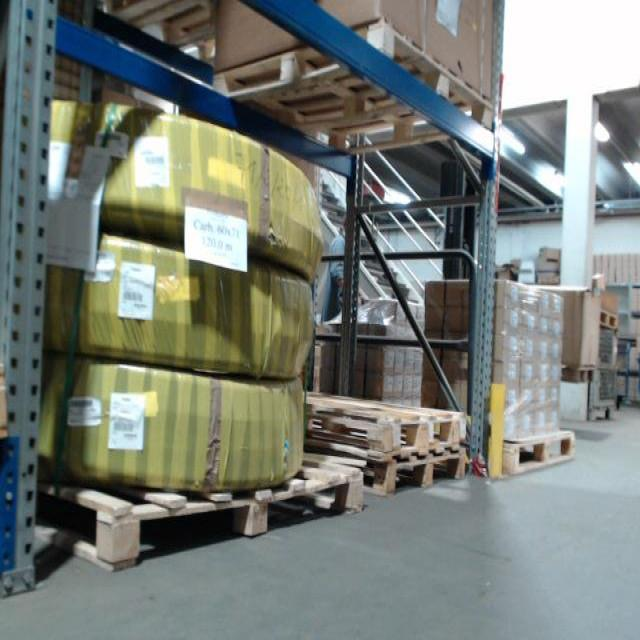pallet: (210, 17, 500, 160), (38, 451, 368, 570), (296, 385, 464, 463), (300, 443, 468, 500), (506, 427, 574, 474), (562, 360, 599, 383)
stillage: (31, 2, 106, 119), (590, 329, 627, 426)
